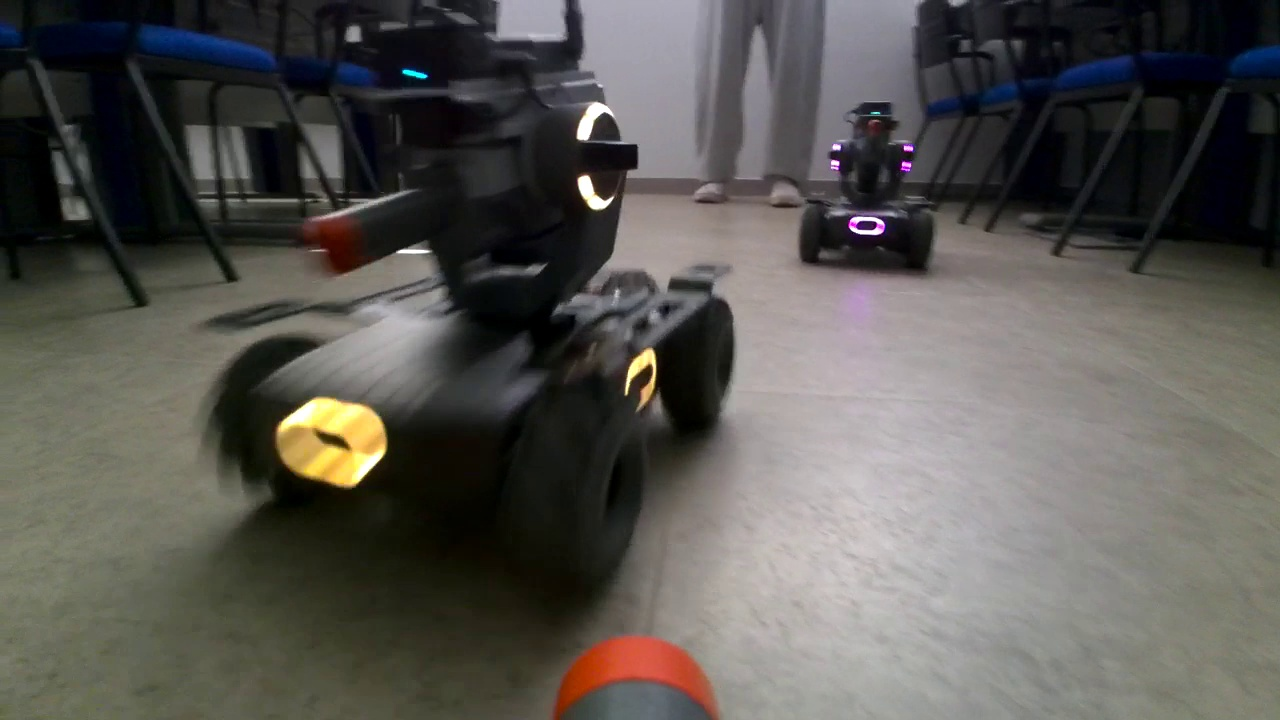robot: (205, 7, 738, 581), (800, 100, 942, 274)
